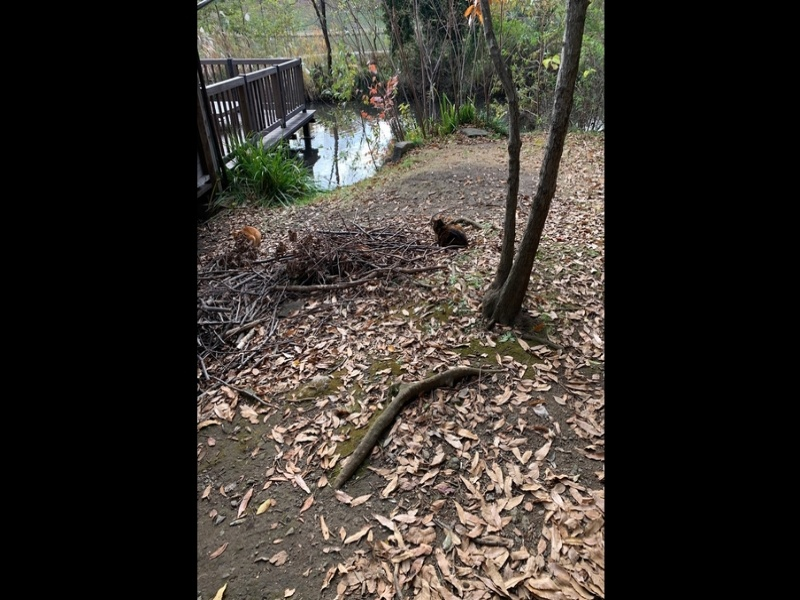cat: (426, 214, 471, 251), (232, 226, 264, 258)
